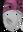with_mask: (2, 2, 23, 32)
